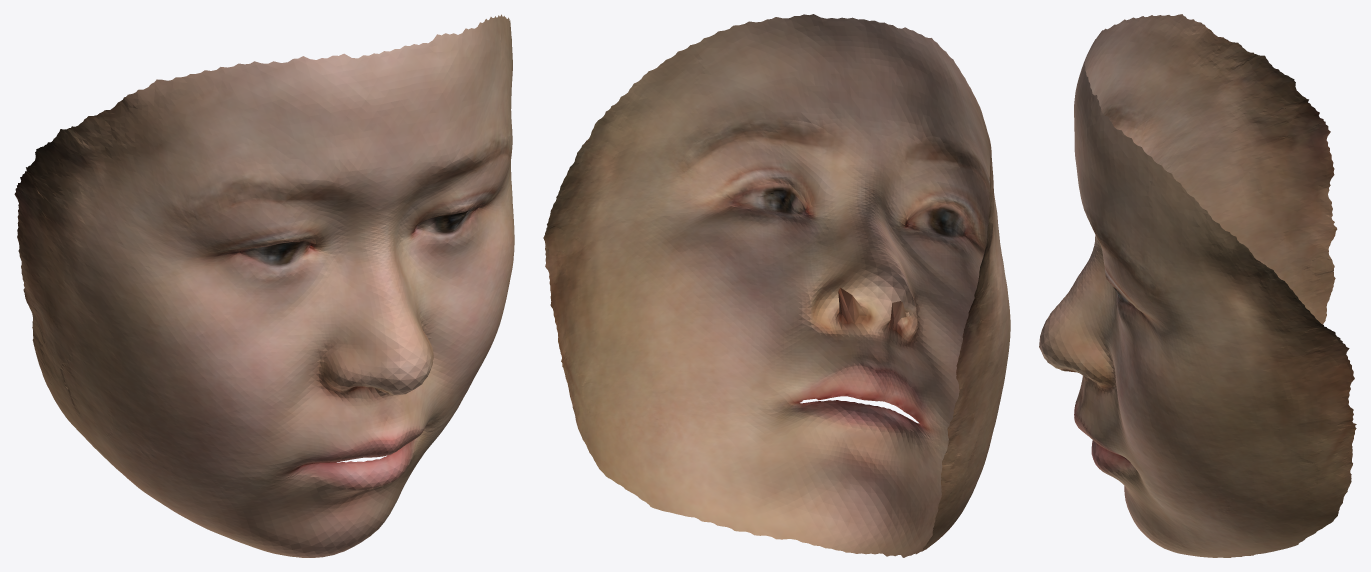
File: predicted_face.obj
The picture shows the model from 3 angles, left to right: view 1: azimuth 30°, elevation 25°; view 2: azimuth 150°, elevation 25°; view 3: azimuth 270°, elevation 25°; orthographic projection. The views are drawn at different scales.
Bounding box in the file's own units: 1.47 × 1.66 × 0.985.
